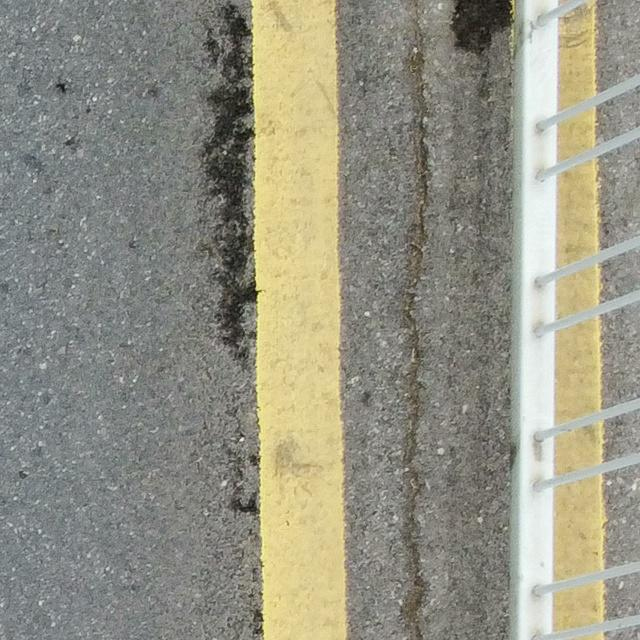LongitudinalCrack: (398, 1, 426, 640)
